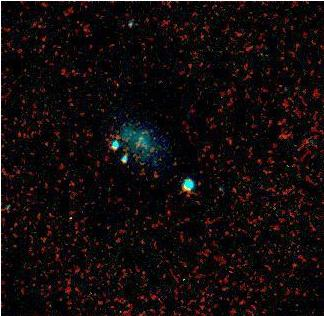star: (139, 126, 169, 156)
